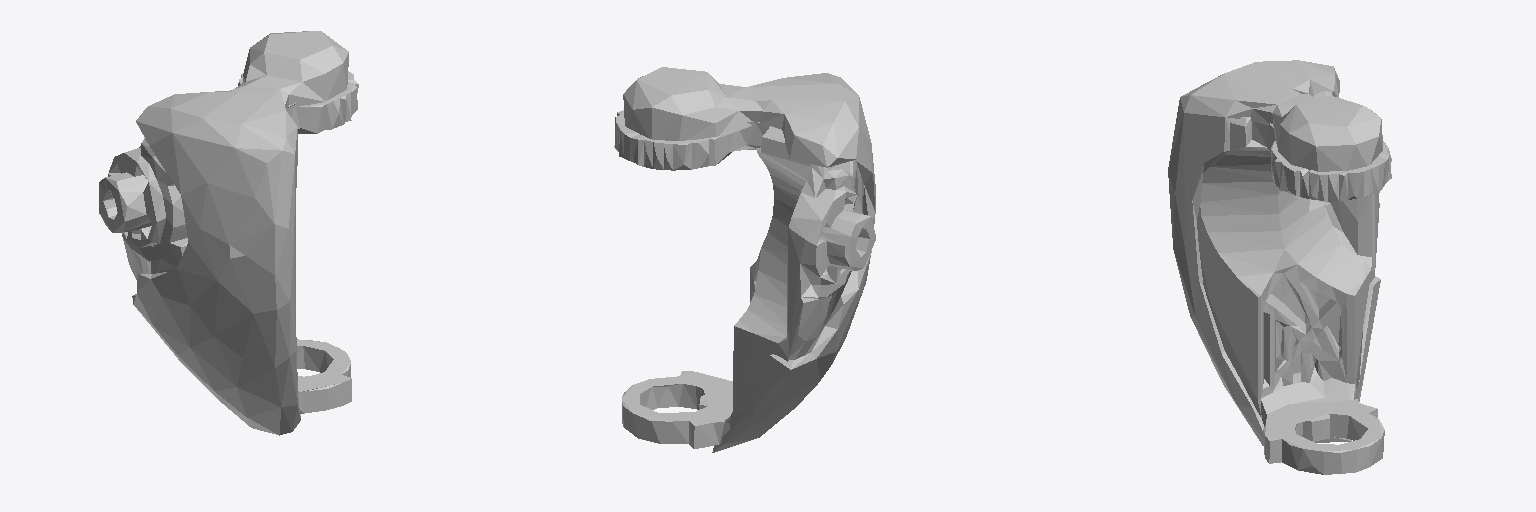
The model's file is RYawPitch.obj.
The picture shows the model from 3 angles: view 1: azimuth 30°, elevation 25°; view 2: azimuth 150°, elevation 25°; view 3: azimuth 270°, elevation 25°; orthographic projection.
Visible parts, largest first — view 1: root; view 2: root; view 3: root.
Boxes of the visible parts, box(x1,y1,x2,y2) form: root: box(99, 31, 358, 435); root: box(614, 67, 875, 452); root: box(1168, 60, 1391, 474).
Bounding box in the file's own units: 64.75 × 91.28 × 52.24.